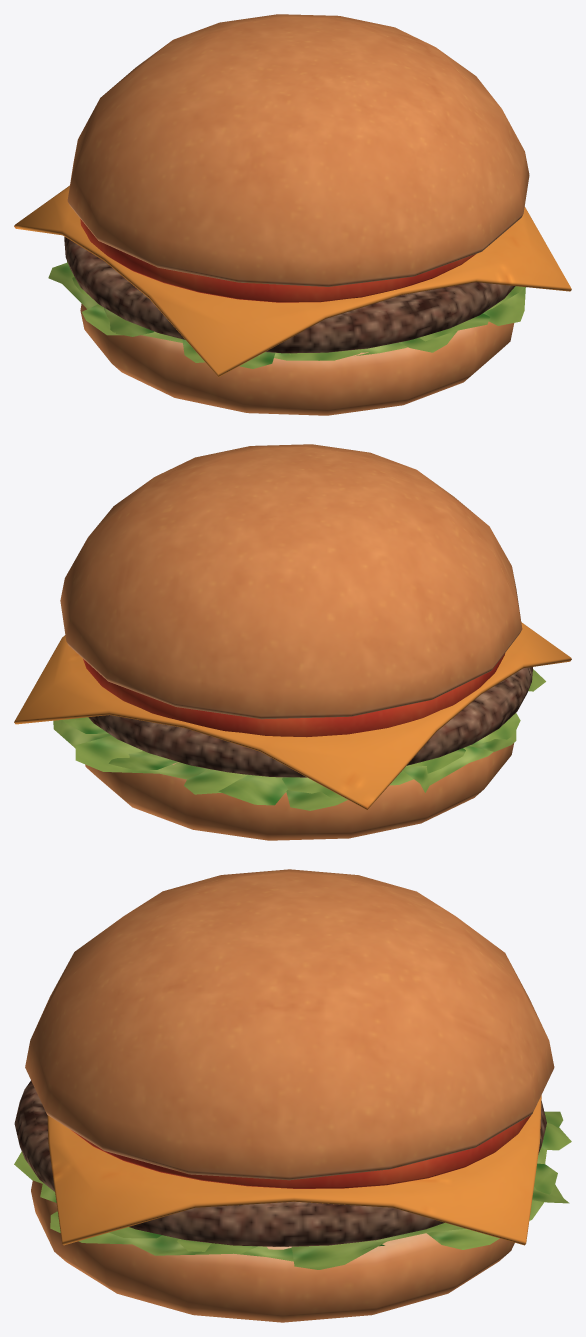
Rendered from Hamburger.fbx.
3 renders of one model, top to bottom at view 1: azimuth 30°, elevation 25°; view 2: azimuth 150°, elevation 25°; view 3: azimuth 270°, elevation 25°, orthographic. The views are drawn at different scales.
Parts seen in each view (by area): view 1: Hamburger; view 2: Hamburger; view 3: Hamburger.
Boxes of the visible parts, <box> form: Hamburger: <box>14,14,571,415</box>; Hamburger: <box>14,444,571,840</box>; Hamburger: <box>14,869,571,1322</box>.
Bounding box in the file's own units: 0.2236 × 0.1405 × 0.2203.
